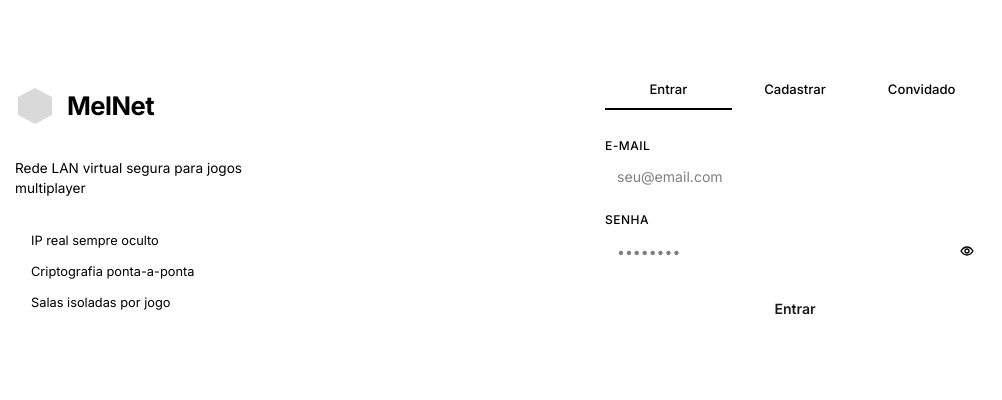
Test: AuthPage component › shows validation errors on empty register submit
Click the button "Cadastrar".
click(795, 90)  # box top-left (732, 71), bottom-right (858, 110)
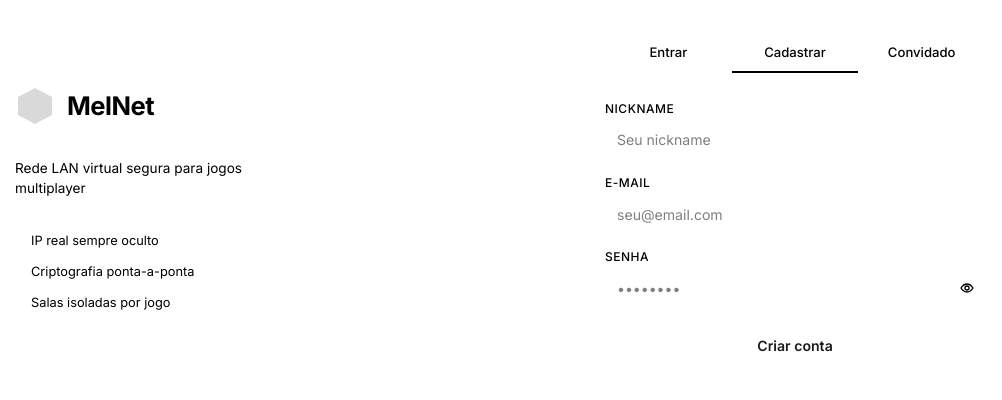
Click the button "Criar conta".
click(795, 345)  # box top-left (605, 326), bottom-right (985, 364)
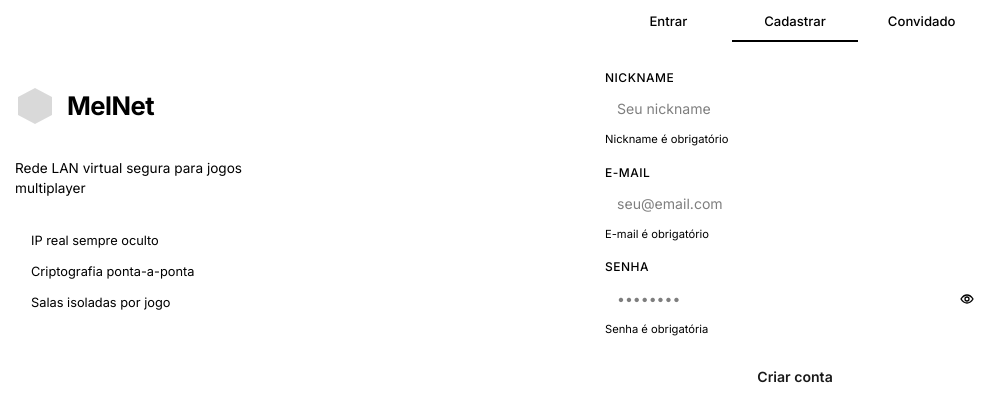
Now the text "Nickname é obrigatório" is shown, box top-left (605, 132), bottom-right (728, 146)
Now the text "E-mail é obrigatório" is shown, box top-left (605, 227), bottom-right (709, 241)
Now the text "Senha é obrigatória" is shown, box top-left (605, 322), bottom-right (708, 336)
